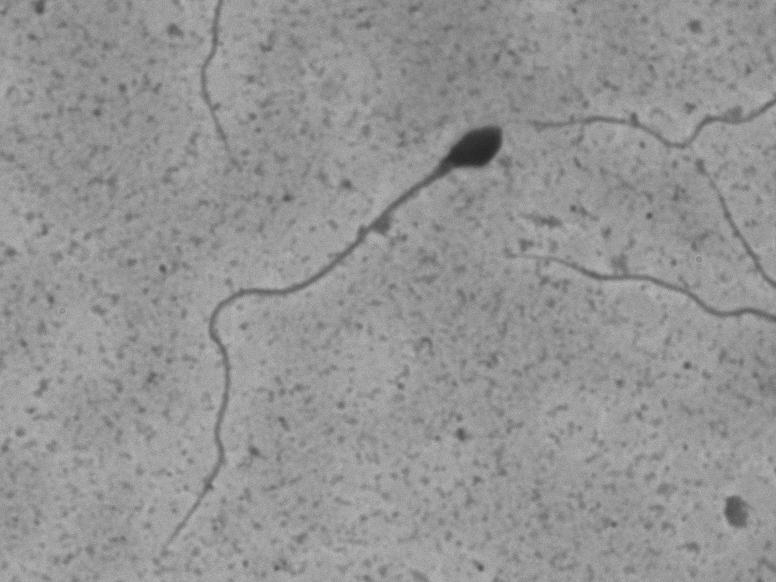Abnormal: (141, 110, 519, 567)
